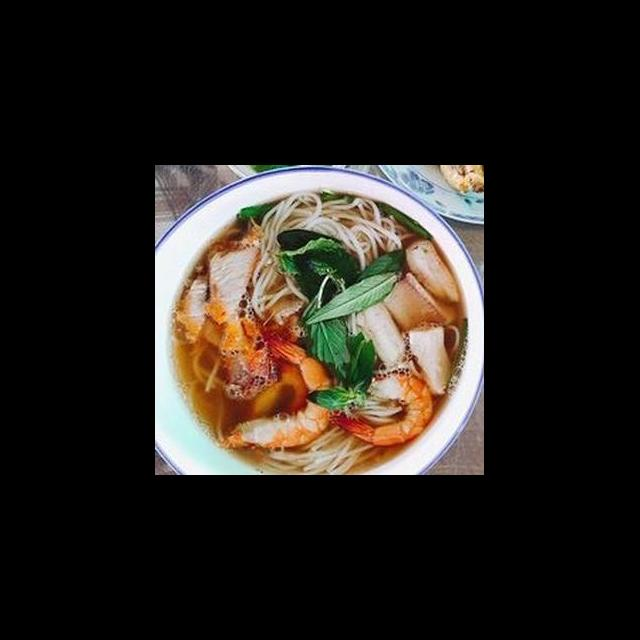bun: (248, 184, 404, 328), (252, 392, 408, 474)
ca: (382, 268, 461, 335), (402, 234, 466, 306), (403, 316, 458, 399), (352, 298, 410, 373)
rau ram: (304, 245, 410, 328)
thit heo quay: (204, 238, 264, 329), (174, 272, 213, 352)
tom: (218, 332, 342, 454), (326, 367, 438, 449)
